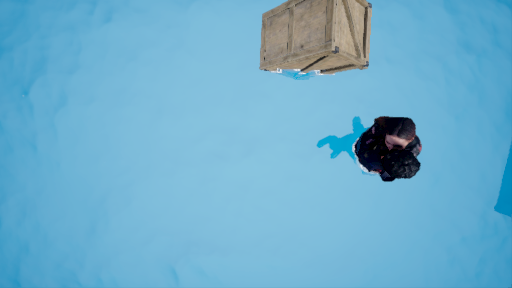person: (325, 111, 420, 180)
